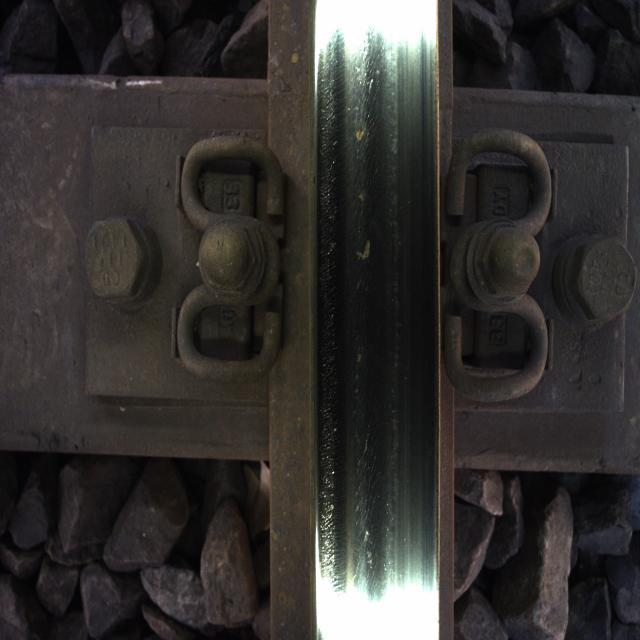scar: (322, 18, 413, 598)
